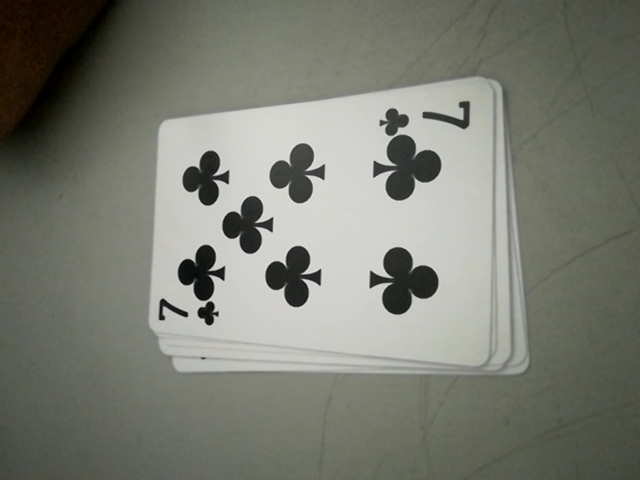mh 7: (376, 93, 480, 137), (154, 298, 222, 333)
